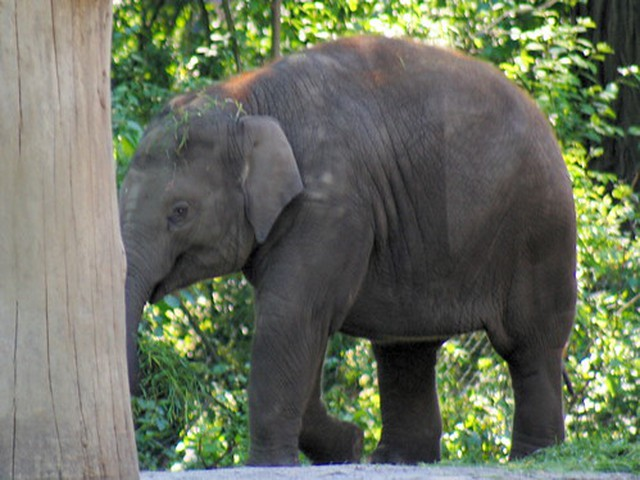Elephant: (115, 29, 595, 458)
